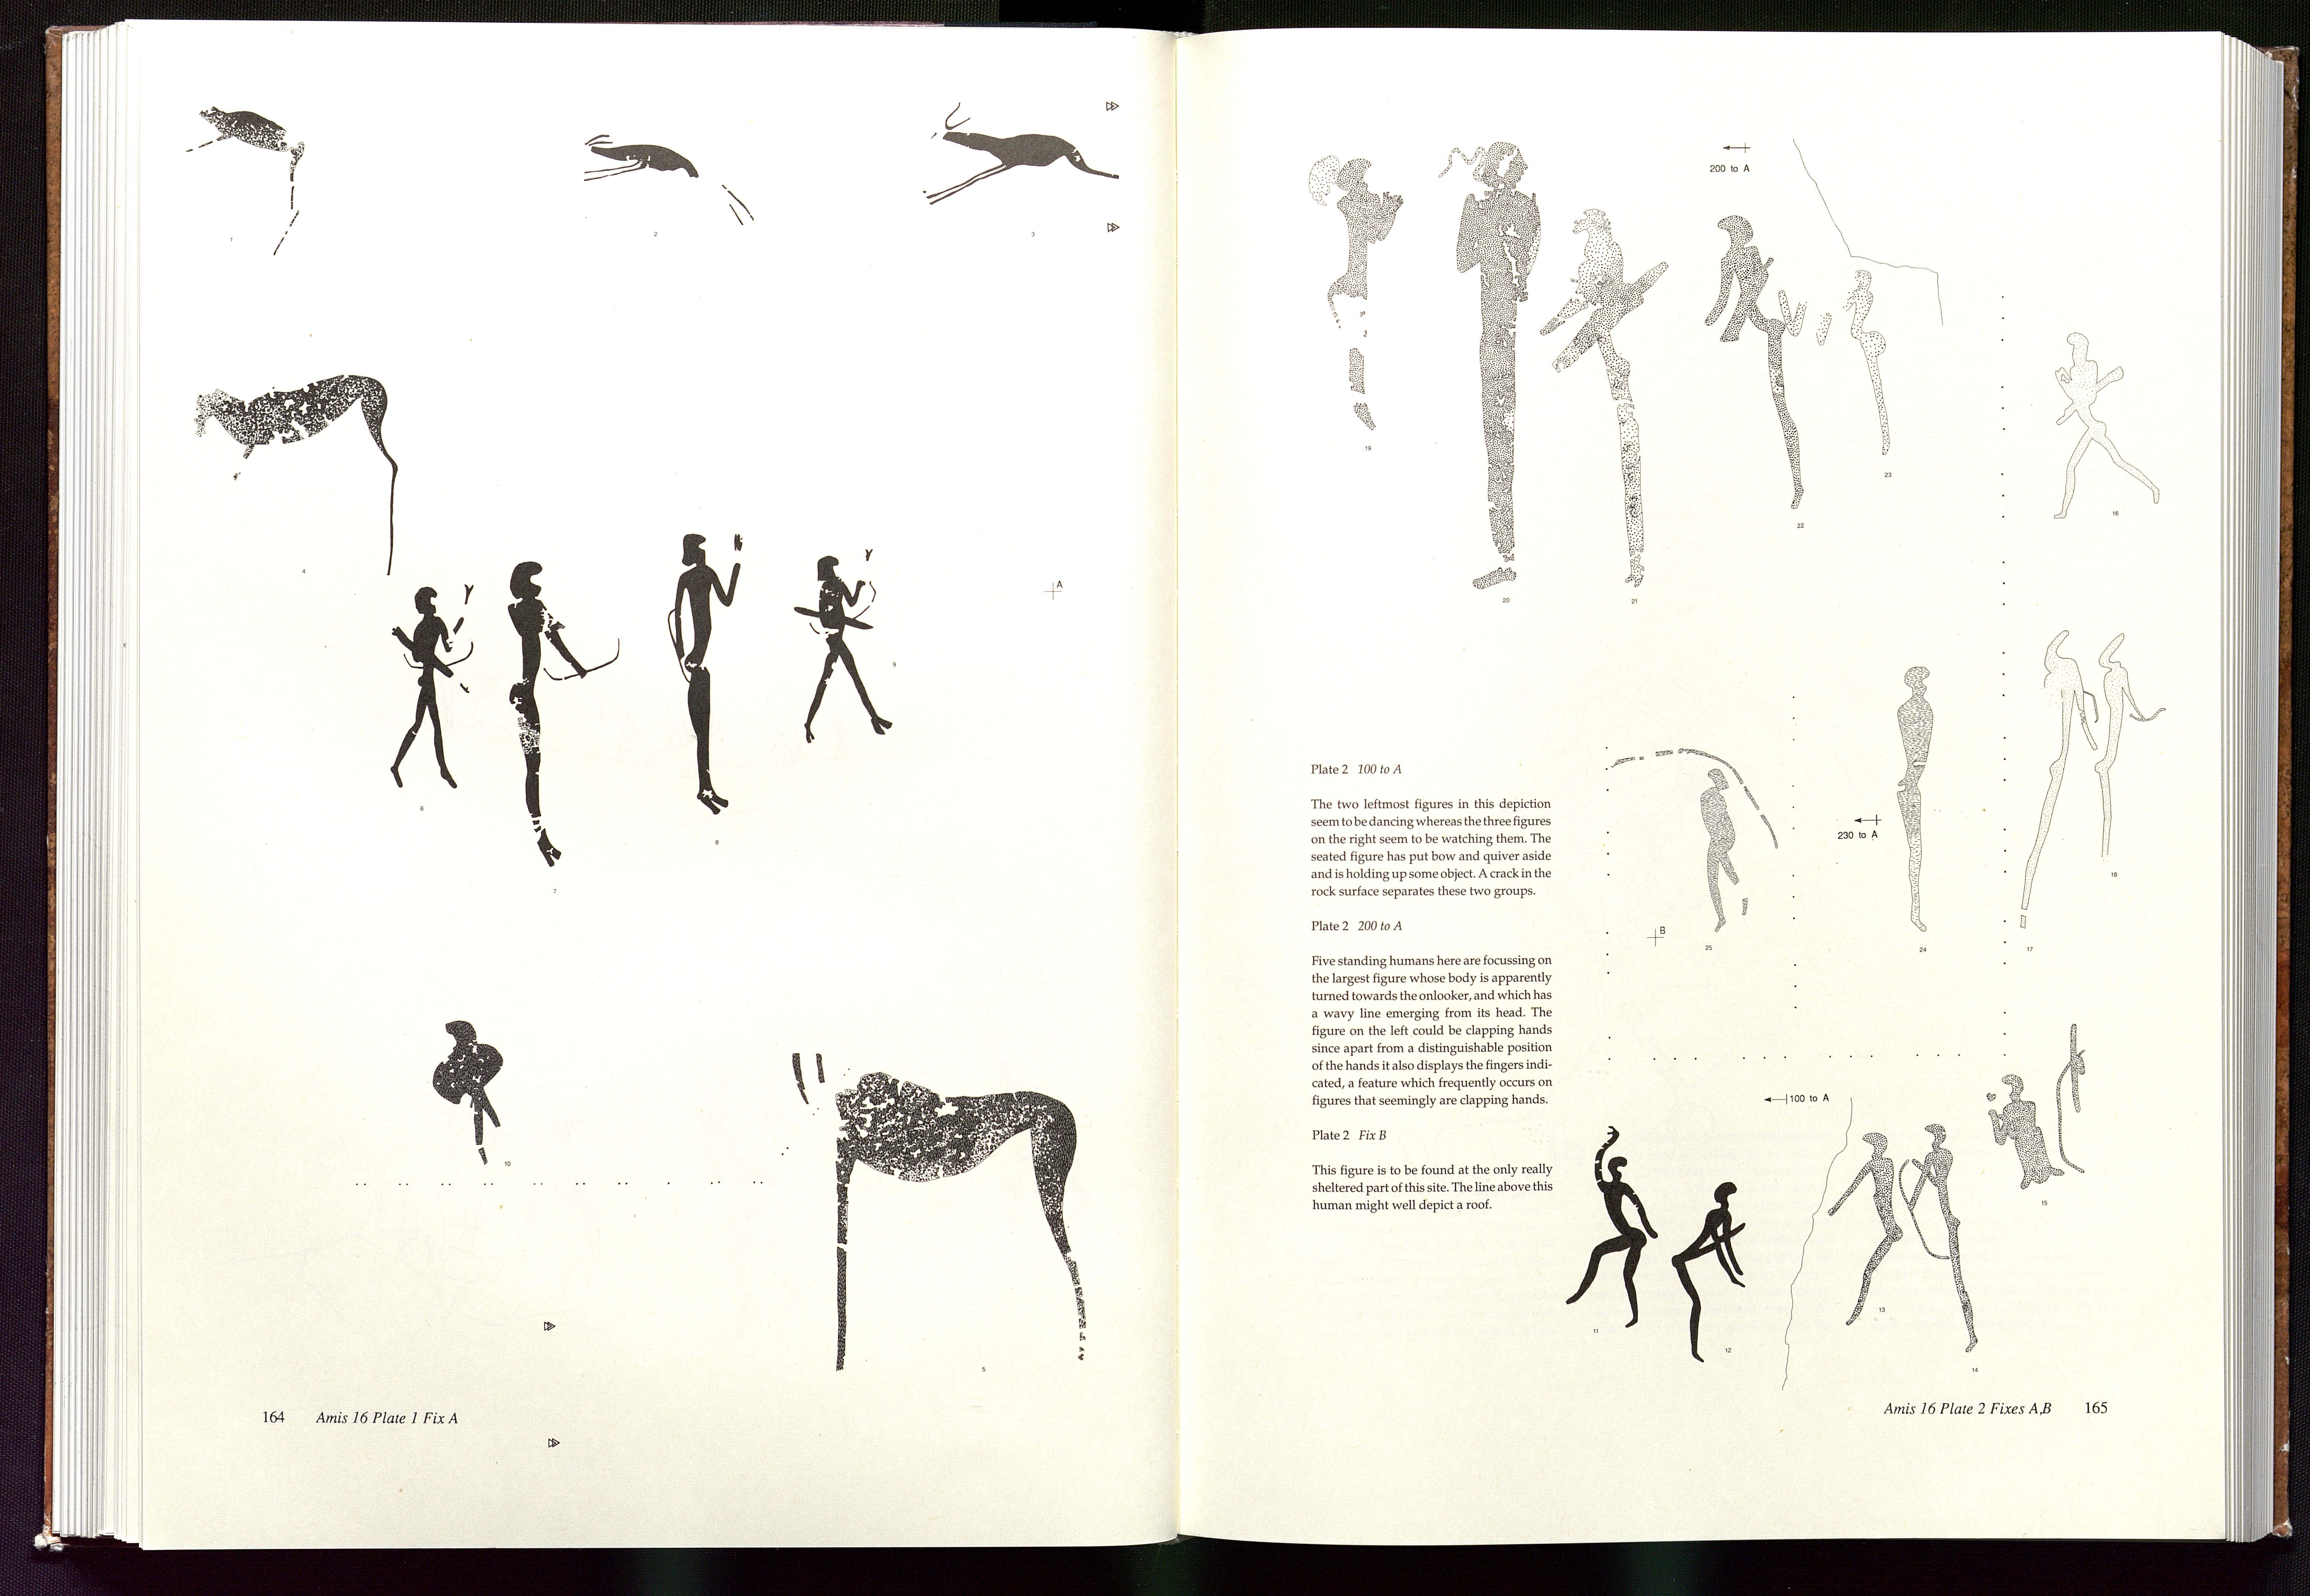animal: (775, 1035, 1109, 1381), (181, 352, 424, 556), (905, 94, 1134, 212), (183, 90, 326, 269), (571, 112, 761, 242)
human: (1519, 190, 1682, 607), (1431, 124, 1546, 605), (1701, 205, 1841, 536), (1298, 124, 1411, 482), (1998, 617, 2102, 964), (495, 554, 603, 878), (1807, 210, 1927, 497), (660, 529, 765, 826), (2033, 325, 2170, 539), (2077, 622, 2170, 907), (1544, 1116, 1657, 1342), (785, 546, 893, 765), (1893, 1121, 1984, 1366), (378, 576, 471, 801), (1888, 637, 1949, 968), (1824, 1118, 1910, 1342), (1669, 1177, 1757, 1369), (434, 1000, 518, 1175), (1689, 757, 1763, 946)
